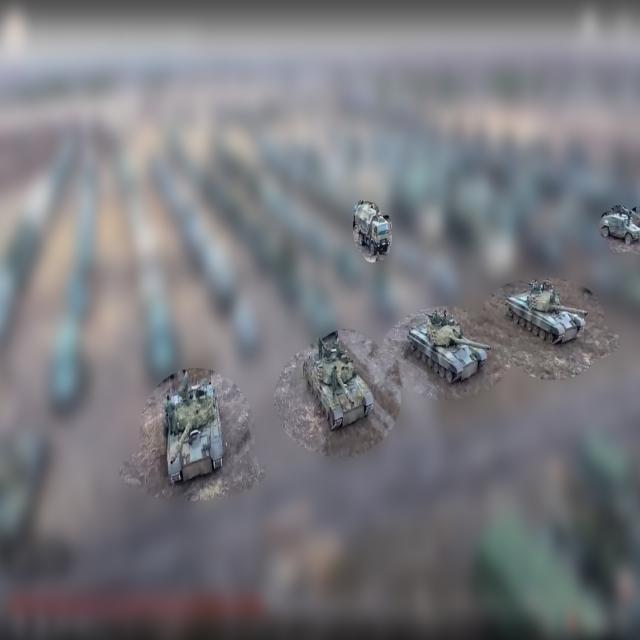tank: (301, 333, 375, 436), (162, 382, 224, 492), (406, 309, 494, 386), (504, 280, 589, 353)
